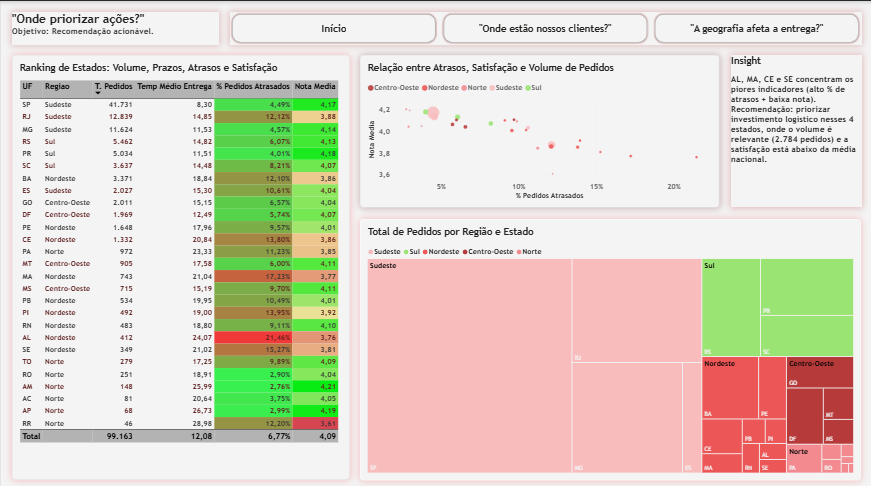

This screenshot's page, from the dashboard's own definition file:
{"tool":"powerbi","page":{"name":"\"Onde priorizar ações?\"","canvas":[1920,1080],"ordinal":3},"visuals":[{"type":"textbox","box":[24,24,456,72],"z":0},{"type":"pageNavigator","box":[504,24,1392,72],"z":1000},{"type":"tableEx","title":"Ranking de Estados: Volume, Prazos, Atrasos e Satisfação","fields":{"Values":["fPedidos.customer_state","dEstado.Regiao","Medidas.Total Pedidos","Medidas.Tempo Medio Entrega","Medidas.% Pedidos Atrasados","Medidas.Nota Media"]},"box":[24,120,744,936],"z":1001},{"type":"scatterChart","title":"Relação entre Atrasos, Satisfação e Volume de Pedidos","fields":{"Category":["dEstado.customer_state"],"Series":["dEstado.Regiao"],"Size":["Medidas.Total Pedidos"],"X":["Medidas.% Pedidos Atrasados"],"Y":["Medidas.Nota Media"]},"box":[792,120,792,336],"z":1002},{"type":"treemap","title":"Total de Pedidos por Região e Estado","fields":{"Details":["fPedidos.customer_state"],"Group":["dEstado.Regiao"],"Values":["Medidas.Total Pedidos"]},"box":[792,480,1104,576],"z":1003},{"type":"textbox","title":"Insight","box":[1608,120,288,336],"z":1004}]}

Visuals, with their boxes in screenshot pixels (x1, y1, x2, y2), scaled from the page's 1920x1080 canvas onto the 871x486 screenshot:
textbox: box(11, 11, 218, 43)
pageNavigator: box(229, 11, 860, 43)
"Ranking de Estados: Volume, Prazos, Atrasos e Satisfação" tableEx: box(11, 54, 348, 475)
"Relação entre Atrasos, Satisfação e Volume de Pedidos" scatterChart: box(359, 54, 719, 205)
"Total de Pedidos por Região e Estado" treemap: box(359, 216, 860, 475)
"Insight" textbox: box(729, 54, 860, 205)
